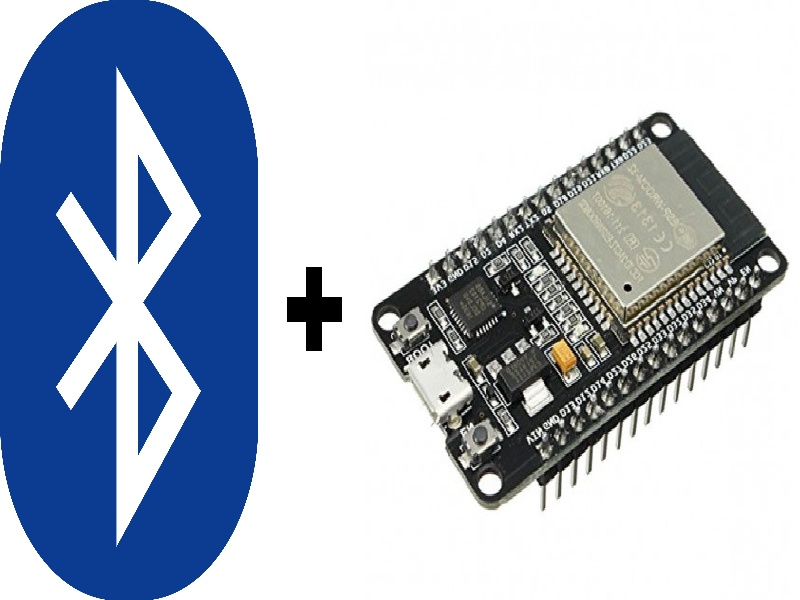esp32: (377, 105, 789, 483)
